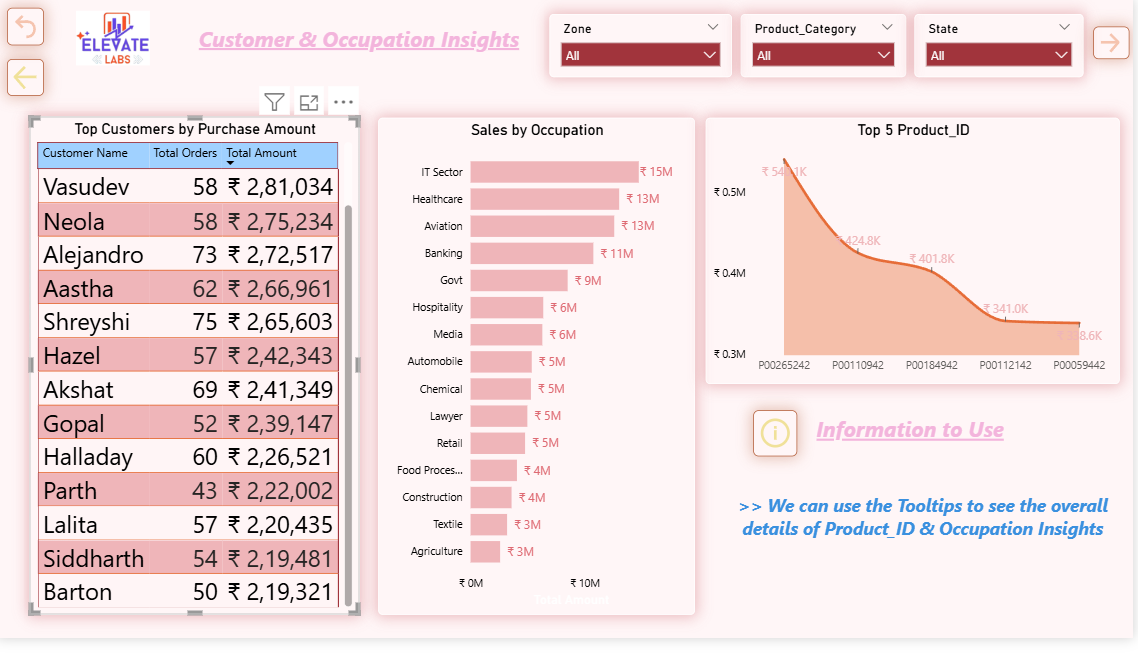

This screenshot's page, from the dashboard's own definition file:
{"tool":"powerbi","page":{"name":"Customer & Occupation Insights","canvas":[1280,720],"ordinal":1},"visuals":[{"type":"clusteredBarChart","title":"Sales by Occupation","fields":{"Y":["Diwali Sales Data.Amount"],"Category":["Diwali Sales Data.Occupation"]},"box":[429.5,133.1,356.8,559.9],"z":0},{"type":"slicer","title":"Avg Order Value","fields":{"Values":["Diwali Sales Data.Product_Category"]},"box":[838.4,16.5,186.6,71.4],"z":1000},{"type":"slicer","title":"Avg Order Value","fields":{"Values":["Diwali Sales Data.State"]},"box":[1033.3,16.5,190.7,71.4],"z":2000},{"type":"slicer","title":"Avg Order Value","fields":{"Values":["Diwali Sales Data.Zone"]},"box":[623,16.5,205.8,71.4],"z":3000},{"type":"tableEx","title":"Top Customers by Purchase Amount","fields":{"Values":["Diwali Sales Data.Cust_name","Diwali Sales Data.Orders","Diwali Sales Data.Amount"]},"box":[37,131.7,371.9,561.2],"z":4000},{"type":"areaChart","title":"Top 5 Product_ID ","fields":{"Y":["Diwali Sales Data.Amount"],"Category":["Diwali Sales Data.Product_ID"]},"box":[798.6,133.8,466.2,300],"z":5000},{"type":"actionButton","box":[11.8,10.1,41.6,42.5],"z":6000},{"type":"actionButton","box":[1235.2,31,40.8,36.6],"z":7000},{"type":"actionButton","box":[11.8,67.1,41.6,41.6],"z":8000},{"type":"image","box":[74.1,8.2,112.5,71.4],"z":9000},{"type":"actionButton","box":[201.7,0,413,87.8],"z":10000},{"type":"actionButton","box":[809.6,516,466.6,134.5],"z":11000},{"type":"actionButton","box":[911.3,463.4,235.2,40.8],"z":12000},{"type":"actionButton","box":[852.1,463.4,49.3,52.1],"z":13000}]}

Visuals, with their boxes in screenshot pixels (x1, y1, x2, y2), scaled from the page's 1280x720 canvas onto the 1138x653 screenshot:
"Sales by Occupation" clusteredBarChart: <region>382, 121, 699, 629</region>
"Avg Order Value" slicer: <region>745, 15, 911, 80</region>
"Avg Order Value" slicer: <region>919, 15, 1088, 80</region>
"Avg Order Value" slicer: <region>554, 15, 737, 80</region>
"Top Customers by Purchase Amount" tableEx: <region>33, 119, 364, 628</region>
"Top 5 Product_ID " areaChart: <region>710, 121, 1124, 393</region>
actionButton: <region>10, 9, 47, 48</region>
actionButton: <region>1098, 28, 1134, 61</region>
actionButton: <region>10, 61, 47, 99</region>
image: <region>66, 7, 166, 72</region>
actionButton: <region>179, 0, 547, 80</region>
actionButton: <region>720, 468, 1135, 590</region>
actionButton: <region>810, 420, 1019, 457</region>
actionButton: <region>758, 420, 801, 468</region>
